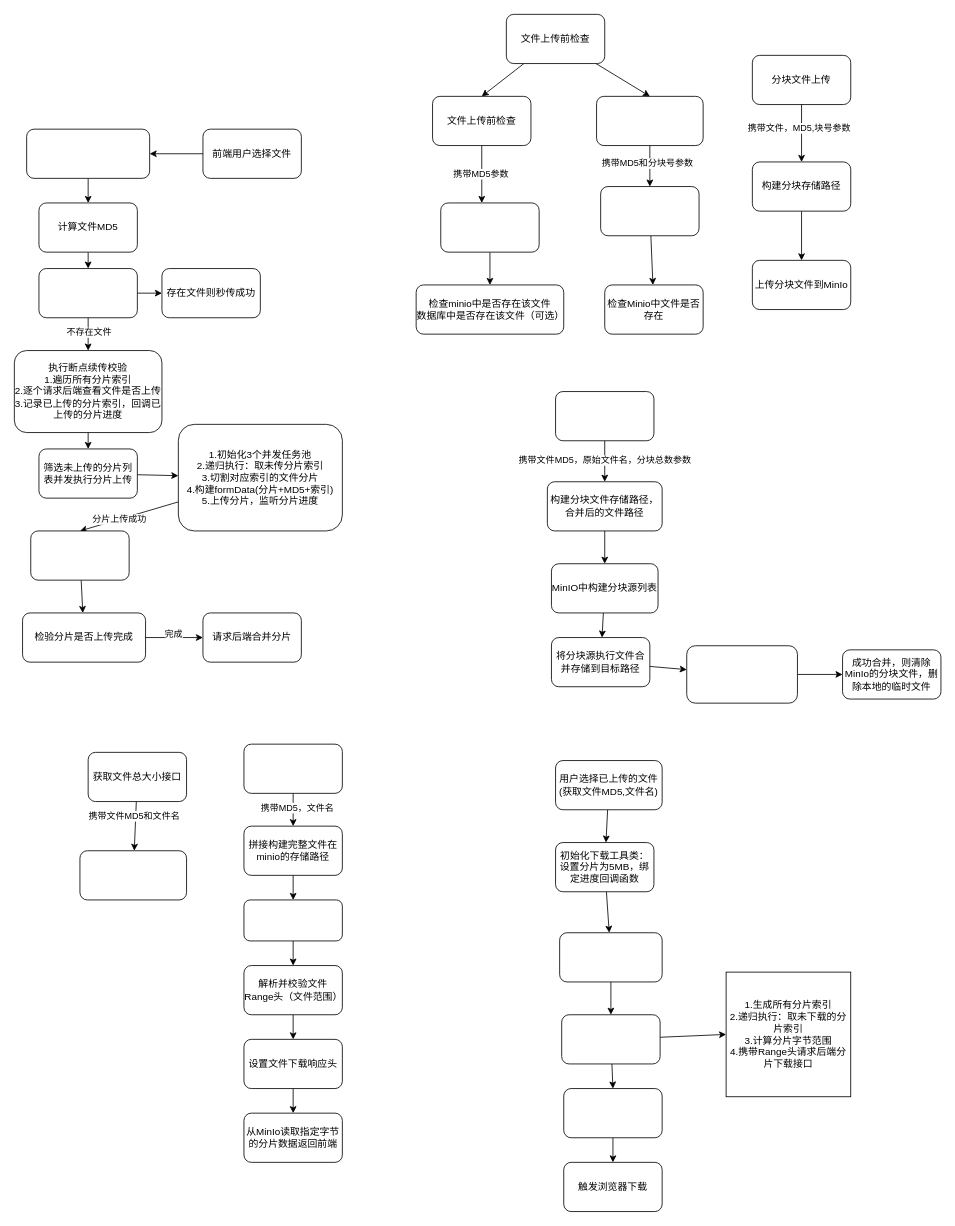
Some shapes in this 955 by 1226 pixel diagram are drawn without their labels. The centre of each missing label's shape, as x and y in pixels:
初始化大文件上传工具，设置分片大小为5MB，计算分片数量，绑定进度回调函数: the point at 88,153
合并分片为完整文件: the point at 612,1113
大文件分片下载: the point at 292,768
并发下载分片: the point at 610,1039
拼接文件路径，利用MinioAPI获取文件大小: the point at 133,875
携带MD5值进行秒传校验: the point at 87,293
文件合并: the point at 604,416
更新已完成的分片数量，回调整体进度: the point at 79,555
构建分块存储目录，并拼接分块号构建分块文件路径: the point at 649,211
构建文件元信息: the point at 292,920
根据文件在minio的存储路径规则获取文件在minio中的全路径: the point at 489,227
检查文件分块是否存在: the point at 649,121
流式下载合并的文件，通过对比文件MD5和携带的接口参数MD5判断文件是否成功合并: the point at 741,674
调用后端接口获取文件大小，计算分片数量: the point at 610,957
